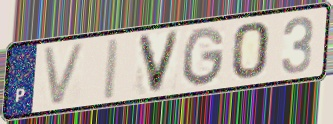0: (230, 21, 272, 81)
3: (280, 14, 315, 75)
G: (181, 25, 227, 89)
I: (100, 36, 123, 103)
V: (40, 40, 89, 109), (135, 28, 183, 96)
